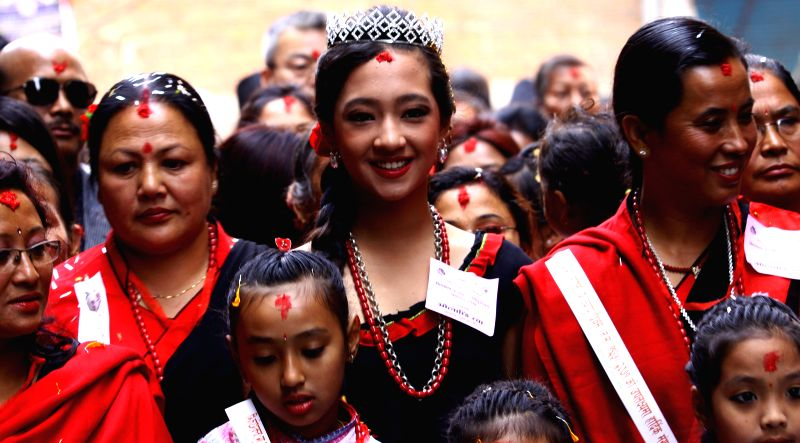human: (513, 13, 800, 443), (292, 2, 550, 427), (53, 61, 285, 419), (191, 235, 377, 443)
